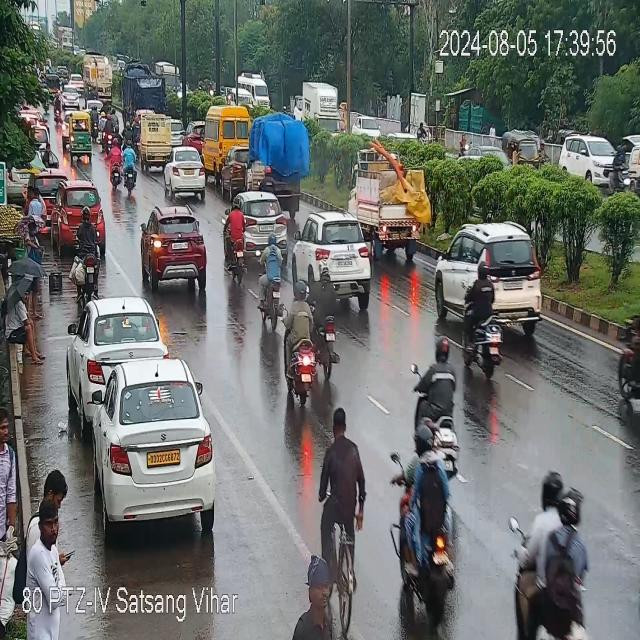2-wheelers: (312, 400, 370, 608), (518, 480, 591, 640), (400, 441, 458, 619), (462, 264, 508, 375), (414, 340, 454, 462), (284, 282, 319, 406), (62, 192, 94, 290), (258, 244, 288, 326), (617, 310, 640, 415), (613, 137, 640, 194), (226, 202, 246, 275), (95, 99, 122, 147), (114, 144, 138, 193), (55, 92, 61, 126)
auto: (353, 141, 426, 252), (496, 123, 540, 178), (64, 111, 96, 159)
bus: (197, 98, 246, 172)
car: (75, 357, 218, 530), (435, 228, 551, 330), (71, 297, 164, 398), (297, 217, 383, 292), (142, 205, 212, 288), (560, 134, 622, 188), (237, 191, 289, 250), (53, 184, 104, 244), (164, 155, 210, 200), (229, 72, 274, 110), (61, 84, 80, 109), (70, 74, 83, 91)
pedestrian: (24, 463, 71, 602), (293, 553, 340, 640), (0, 406, 19, 586), (7, 289, 46, 362), (26, 186, 49, 240), (44, 143, 52, 165)
truck: (252, 113, 302, 202), (121, 62, 164, 115), (303, 79, 339, 134), (140, 114, 170, 171), (83, 56, 111, 100)
